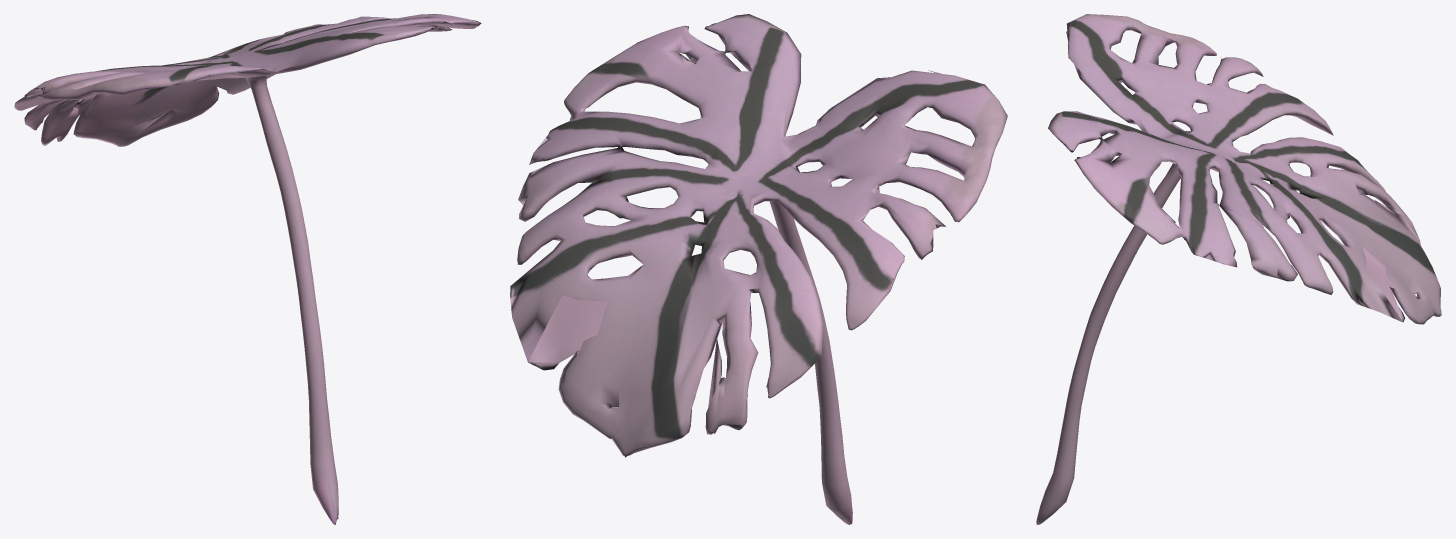
File: mon_variegata_pink_v2.glb
The picture shows the model from 3 angles, left to right: view 1: azimuth 30°, elevation 25°; view 2: azimuth 150°, elevation 25°; view 3: azimuth 270°, elevation 25°; orthographic projection. The views are drawn at different scales.
Parts seen in each view (by area): view 1: world; view 2: world; view 3: world.
Boxes of the visible parts, x1,y1,x2,y2 form: world: (14,14,481,524); world: (510,14,1007,524); world: (1036,14,1441,524).
Size of the model in its own units: 1.83 by 2 by 1.67.
1 material, 1 textured.
